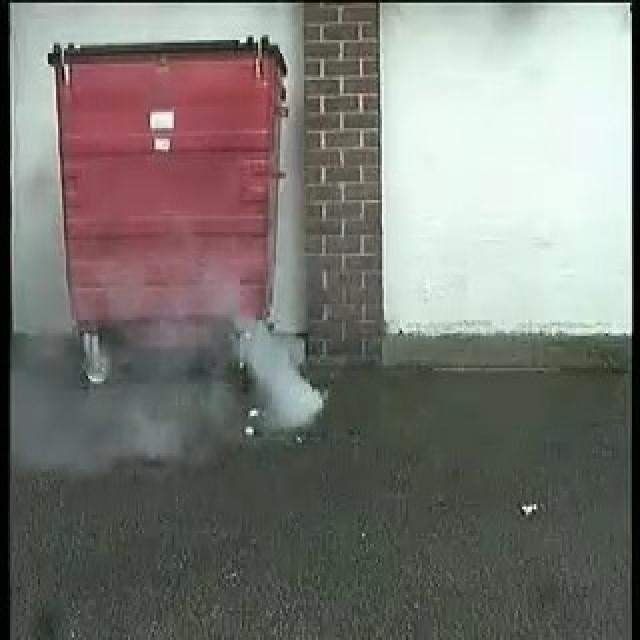smoke: (241, 326, 323, 438)
